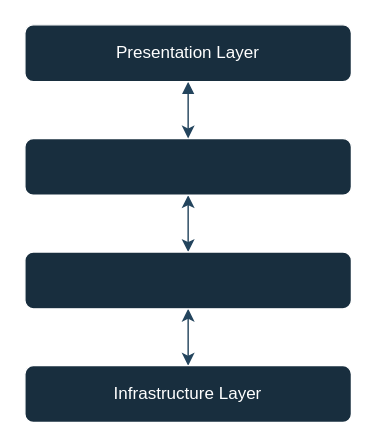
Some shapes in this 376 by 447 pixel diagram are drawn without their labels. Here are the shapes that lost their labels. From the top down, the box of each, then its label:
(23, 137, 351, 195): Service Layer
(23, 251, 351, 309): Data Access Layer
